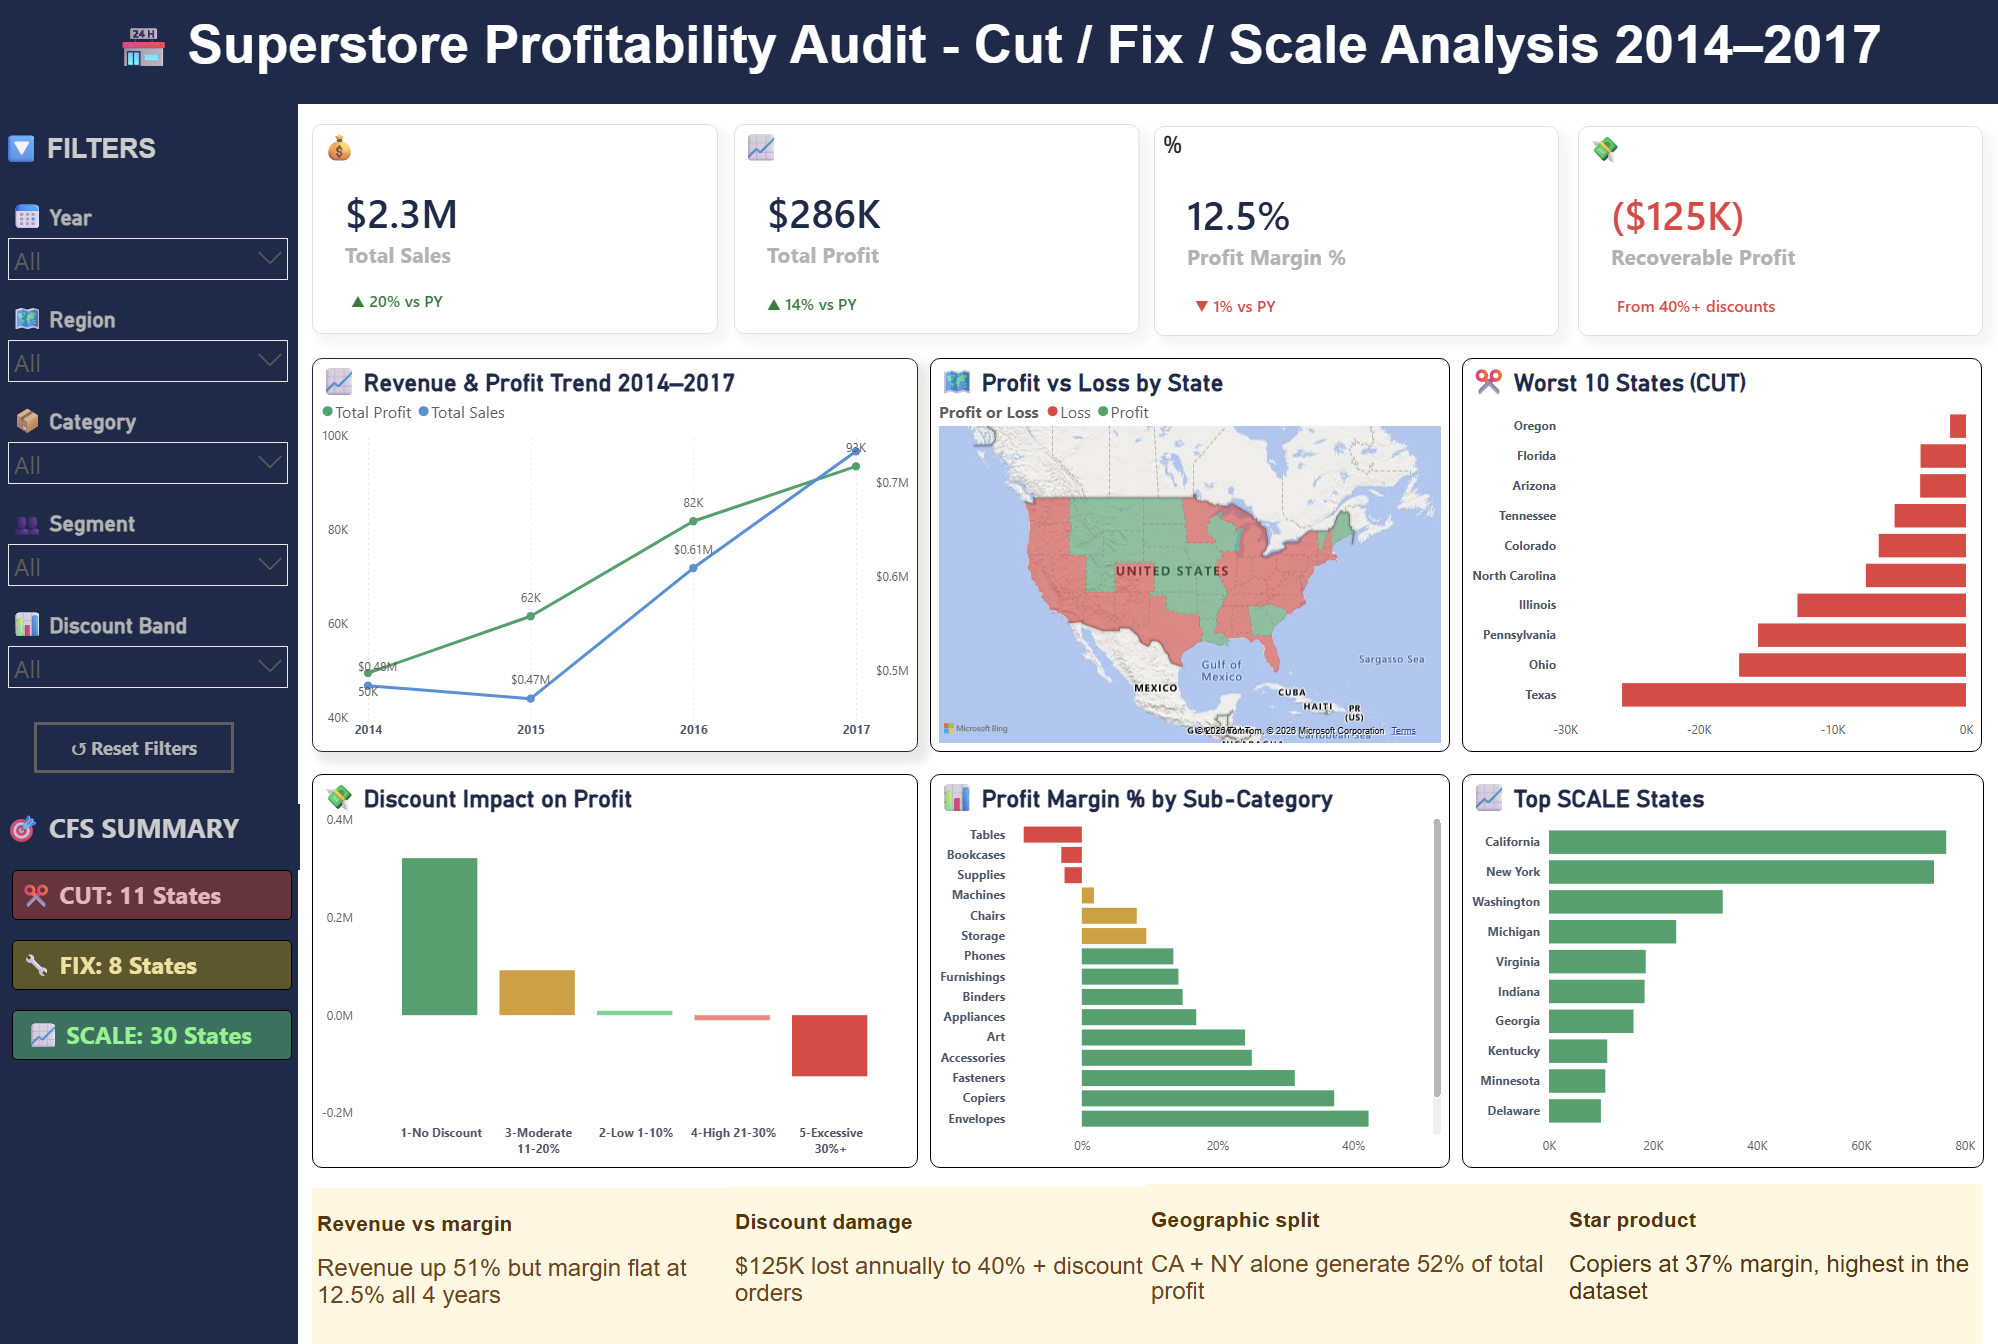

The dashboard page shown, as its layout file describes it:
{"tool":"powerbi","page":{"name":"Superstore Profitability Audit","canvas":[2000,1400],"ordinal":0},"visuals":[{"type":"textbox","box":[0,0,2000,104],"z":0,"group":"g3"},{"type":"shape","box":[0,104,300,1662],"z":0},{"type":"cardVisual","title":"💰","fields":{"Data":["_Measures.Total Sales"]},"box":[314,124,406.1,210],"z":0,"group":"g11"},{"type":"group","id":"g1","title":"Group 1","box":[314,124,406.1,210],"z":0,"group":"g7"},{"type":"cardVisual","title":"📈","fields":{"Data":["_Measures.Total Profit"]},"box":[736.5,124,405.6,210.2],"z":0,"group":"g12"},{"type":"cardVisual","title":"%","fields":{"Data":["_Measures.Profit Margin %"]},"box":[1156.6,125,404.9,210],"z":0,"group":"g13"},{"type":"cardVisual","title":"💸","fields":{"Data":["_Measures.Recoverable Profit"]},"box":[1579.1,126,404.9,210],"z":0,"group":"g14"},{"type":"slicer","fields":{"Values":["Superstore.Year"]},"box":[0,193.3,300,102],"z":0,"group":"g6"},{"type":"textbox","box":[314,1188.4,418.1,165.6],"z":0,"group":"g10"},{"type":"textbox","box":[0,124,300,66],"z":1000},{"type":"group","id":"g2","title":"Group 4","box":[736.5,124,405.6,210.2],"z":1000,"group":"g7"},{"type":"cardVisual","fields":{"Data":["_Measures.Sales Trend Label"]},"box":[324,270,390,58],"z":1000,"group":"g11"},{"type":"cardVisual","fields":{"Data":["_Measures.Profit Trend Label"]},"box":[741.2,276,396.7,52],"z":1000,"group":"g12"},{"type":"cardVisual","fields":{"Data":["_Measures.Recoverable Profit Label"]},"box":[1588.5,276,363.8,56],"z":1000,"group":"g14"},{"type":"cardVisual","fields":{"Data":["_Measures.Margin Trend Label"]},"box":[1168.3,277,366.2,52],"z":1000,"group":"g13"},{"type":"slicer","fields":{"Values":["Superstore.Region"]},"box":[0,295.3,300,102],"z":1000,"group":"g6"},{"type":"textbox","box":[732.1,1186.2,418.1,165.6],"z":1000,"group":"g10"},{"type":"group","id":"g3","title":"Group 2","box":[0,0,2000,104],"z":2000},{"type":"group","id":"g4","title":"Group 5","box":[1579.1,126,404.9,210],"z":2000,"group":"g7"},{"type":"slicer","fields":{"Values":["Superstore.Category"]},"box":[0,397.3,300,102],"z":2000,"group":"g6"},{"type":"textbox","box":[1147.7,1184,418.1,165.6],"z":2000,"group":"g10"},{"type":"group","id":"g5","title":"Group 6","box":[1156.6,125,404.9,210],"z":3000,"group":"g7"},{"type":"group","id":"g6","title":"Group 3","box":[0,193.3,300,508.9],"z":3000},{"type":"slicer","fields":{"Values":["Superstore.Segment"]},"box":[0,499.3,300,102],"z":3000,"group":"g6"},{"type":"textbox","box":[1565.9,1184,418.1,165.6],"z":3000,"group":"g10"},{"type":"group","id":"g7","title":"Group 7","box":[314,124,1670,212],"z":4000},{"type":"textbox","box":[2,804,300,66],"z":4000,"group":"g8"},{"type":"lineChart","title":"📈 Revenue & Profit Trend 2014–2017","fields":{"Category":["Superstore.Year"],"Y":["_Measures.Total Profit"],"Y2":["_Measures.Total Sales"]},"box":[314,358,606,394],"z":5000,"group":"g9"},{"type":"slicer","fields":{"Values":["Superstore.Discount Band"]},"box":[0,602.2,300,100],"z":5000,"group":"g6"},{"type":"group","id":"g8","title":"Group 8","box":[2,804,300,256],"z":5000},{"type":"group","id":"g9","title":"Group 9","box":[314,358,1672,810],"z":6000},{"type":"filledMap","title":"🗺️ Profit vs Loss by State","fields":{"Category":["Superstore.State"],"Series":["Superstore.Profit or Loss"]},"box":[932,358,520,394],"z":7000,"group":"g9"},{"type":"group","id":"g10","title":"Group 10","box":[314,1184,1670,170],"z":7000},{"type":"clusteredBarChart","title":"✂️ Worst 10 States (CUT)","fields":{"Category":["Superstore.State"],"Y":["_Measures.Total Profit"]},"box":[1464,358,520,394],"z":8000,"group":"g9"},{"type":"actionButton","box":[35.6,722.2,200,51.1],"z":8000},{"type":"group","id":"g11","title":"Group 11","box":[314,124,406.1,210],"z":8001,"group":"g1"},{"type":"group","id":"g12","title":"Group 12","box":[736.5,124,405.6,210.2],"z":8001,"group":"g2"},{"type":"group","id":"g13","title":"Group 13","box":[1156.6,125,404.9,210],"z":8001,"group":"g5"},{"type":"group","id":"g14","title":"Group 14","box":[1579.1,126,404.9,210],"z":8001,"group":"g4"},{"type":"clusteredColumnChart","title":"💸 Discount Impact on Profit","fields":{"Category":["Superstore.Discount Band"],"Y":["_Measures.Total Profit"]},"box":[314,774,606,394],"z":9000,"group":"g9"},{"type":"clusteredBarChart","title":"📊 Profit Margin % by Sub-Category","fields":{"Category":["Superstore.Sub-Category"],"Y":["_Measures.Profit Margin %"]},"box":[932,774,520,394],"z":10000,"group":"g9"},{"type":"clusteredBarChart","title":"📈 Top SCALE States","fields":{"Category":["Superstore.State"],"Y":["_Measures.Total Profit"]},"box":[1464,774,522,394],"z":11000,"group":"g9"},{"type":"textbox","box":[14,870,280,50],"z":12000,"group":"g8"},{"type":"textbox","box":[14,940,280,50],"z":13000,"group":"g8"},{"type":"textbox","box":[14,1010,280,50],"z":14000,"group":"g8"}]}

Visuals, with their boxes on the page's 2000x1400 design canvas (x1, y1, x2, y2). These are canvas units, not pixel positions in the 1998x1344 screenshot, which may show the page scaled, cropped or inside an application window:
textbox: 0/0/2000/104
shape: 0/104/300/1766
"💰" cardVisual: 314/124/720/334
"Group 1" group: 314/124/720/334
"📈" cardVisual: 736/124/1142/334
"%" cardVisual: 1157/125/1562/335
"💸" cardVisual: 1579/126/1984/336
slicer - Superstore.Year: 0/193/300/295
textbox: 314/1188/732/1354
textbox: 0/124/300/190
"Group 4" group: 736/124/1142/334
cardVisual - _Measures.Sales Trend Label: 324/270/714/328
cardVisual - _Measures.Profit Trend Label: 741/276/1138/328
cardVisual - _Measures.Recoverable Profit Label: 1588/276/1952/332
cardVisual - _Measures.Margin Trend Label: 1168/277/1534/329
slicer - Superstore.Region: 0/295/300/397
textbox: 732/1186/1150/1352
"Group 2" group: 0/0/2000/104
"Group 5" group: 1579/126/1984/336
slicer - Superstore.Category: 0/397/300/499
textbox: 1148/1184/1566/1350
"Group 6" group: 1157/125/1562/335
"Group 3" group: 0/193/300/702
slicer - Superstore.Segment: 0/499/300/601
textbox: 1566/1184/1984/1350
"Group 7" group: 314/124/1984/336
textbox: 2/804/302/870
"📈 Revenue & Profit Trend 2014–2017" lineChart: 314/358/920/752
slicer - Superstore.Discount Band: 0/602/300/702
"Group 8" group: 2/804/302/1060
"Group 9" group: 314/358/1986/1168
"🗺️ Profit vs Loss by State" filledMap: 932/358/1452/752
"Group 10" group: 314/1184/1984/1354
"✂️ Worst 10 States (CUT)" clusteredBarChart: 1464/358/1984/752
actionButton: 36/722/236/773
"Group 11" group: 314/124/720/334
"Group 12" group: 736/124/1142/334
"Group 13" group: 1157/125/1562/335
"Group 14" group: 1579/126/1984/336
"💸 Discount Impact on Profit" clusteredColumnChart: 314/774/920/1168
"📊 Profit Margin % by Sub-Category" clusteredBarChart: 932/774/1452/1168
"📈 Top SCALE States" clusteredBarChart: 1464/774/1986/1168
textbox: 14/870/294/920
textbox: 14/940/294/990
textbox: 14/1010/294/1060
